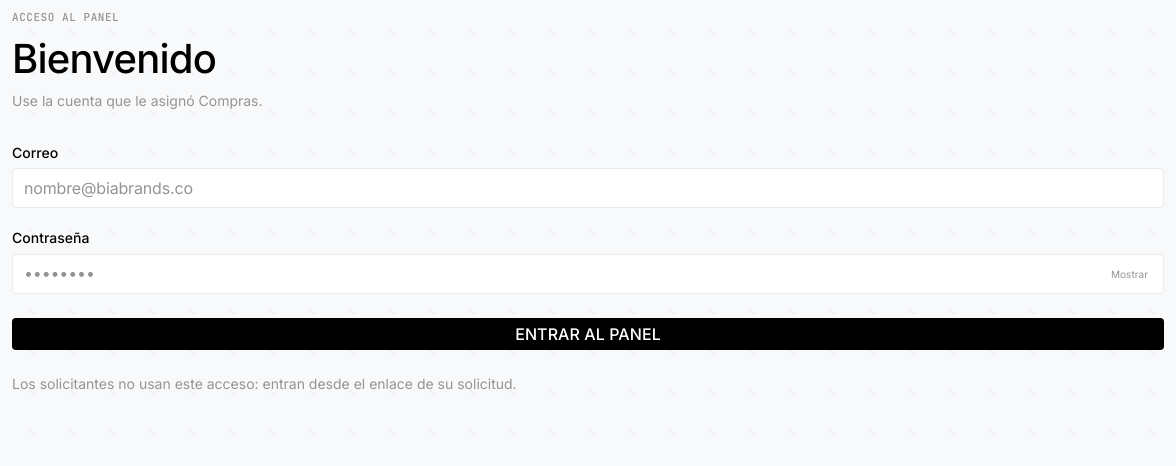
it: Login único del equipo › credenciales inválidas muestran un mensaje en español
In the field labelled "Correo": (588, 188) x1=24 y1=178 x2=1152 y2=199, type "admin@biafoods.co"
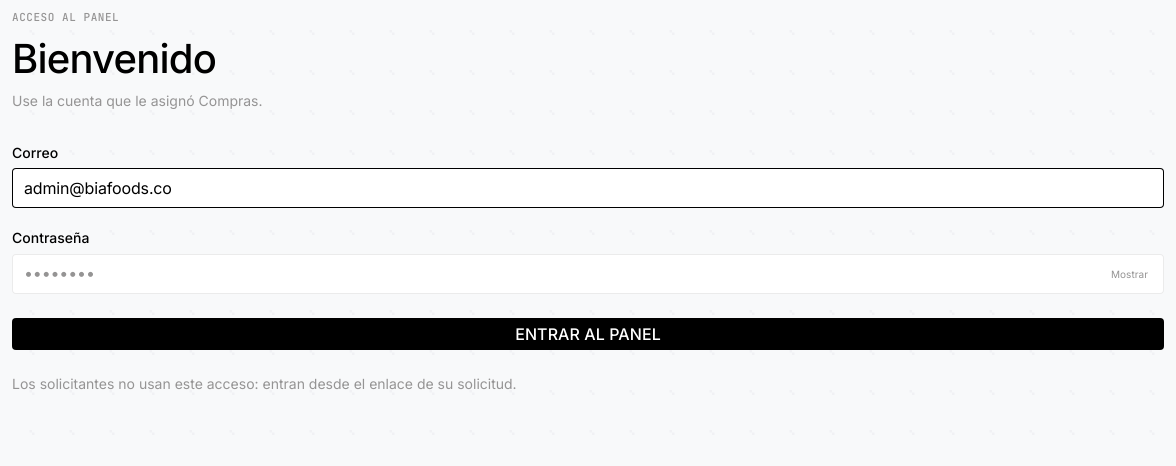
In the password field labelled "Contraseña": (561, 274) x1=24 y1=263 x2=1099 y2=284, type "mal"
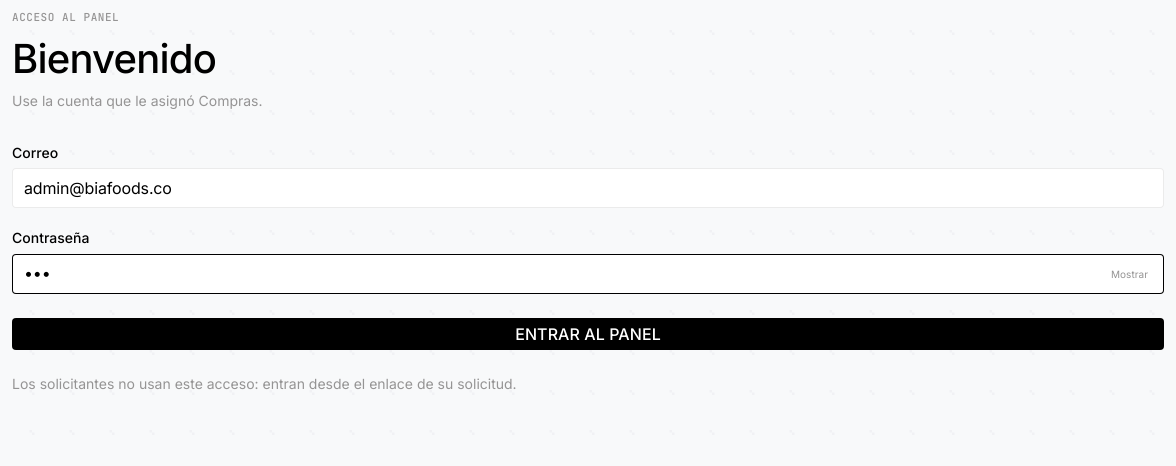
Click the button "Entrar al panel": (588, 334) x1=12 y1=318 x2=1164 y2=350
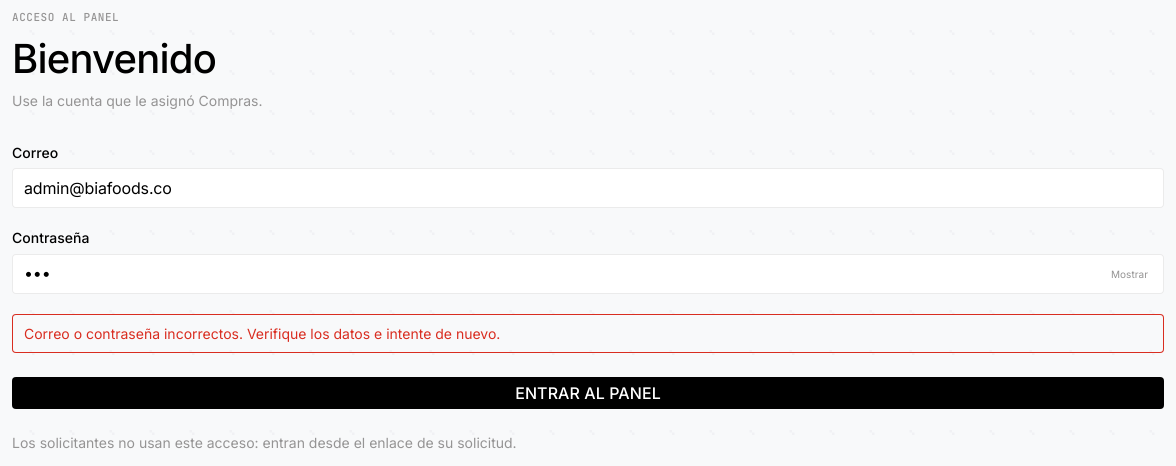
Expected: the message shows "Correo o contraseña incorrectos", x1=24 y1=325 x2=500 y2=342
